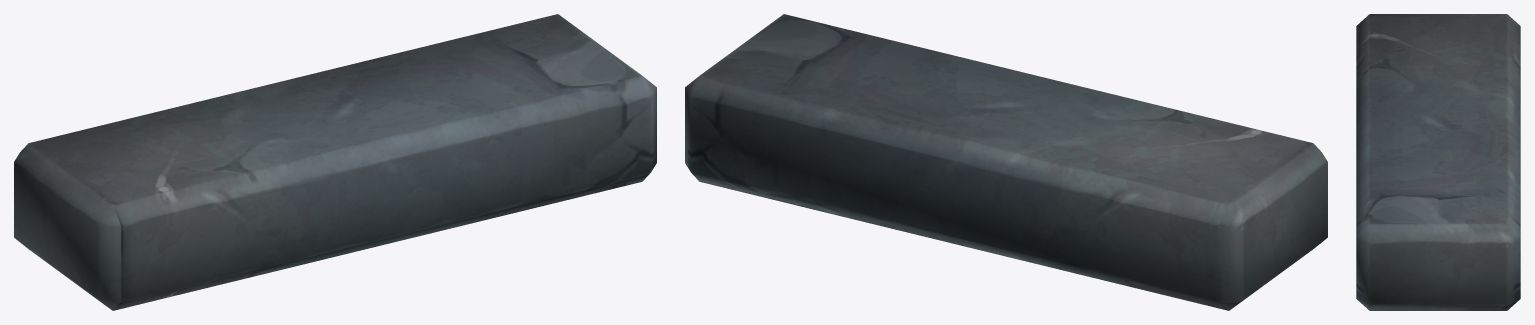
File: DE_House_Mod_Part_54.fbx
3 renders of one model, left to right at view 1: azimuth 30°, elevation 25°; view 2: azimuth 150°, elevation 25°; view 3: azimuth 270°, elevation 25°, orthographic. The views are drawn at different scales.
Visible parts, largest first — view 1: DE_House_Mod_Part_54; view 2: DE_House_Mod_Part_54; view 3: DE_House_Mod_Part_54.
Boxes of the visible parts, left/top/right/bottom form: DE_House_Mod_Part_54: left=14, top=14, right=656, bottom=310; DE_House_Mod_Part_54: left=685, top=14, right=1327, bottom=310; DE_House_Mod_Part_54: left=1356, top=14, right=1520, bottom=310.
Size of the model in its own units: 1.92 by 0.3477 by 0.6006.
